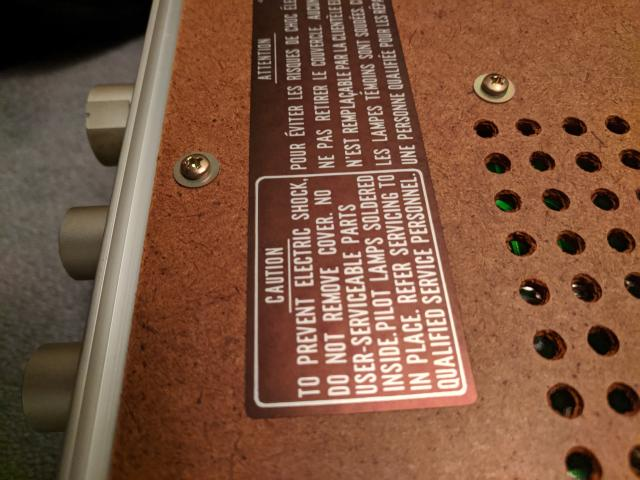CRS: (178, 152, 211, 178), (482, 72, 512, 95)
